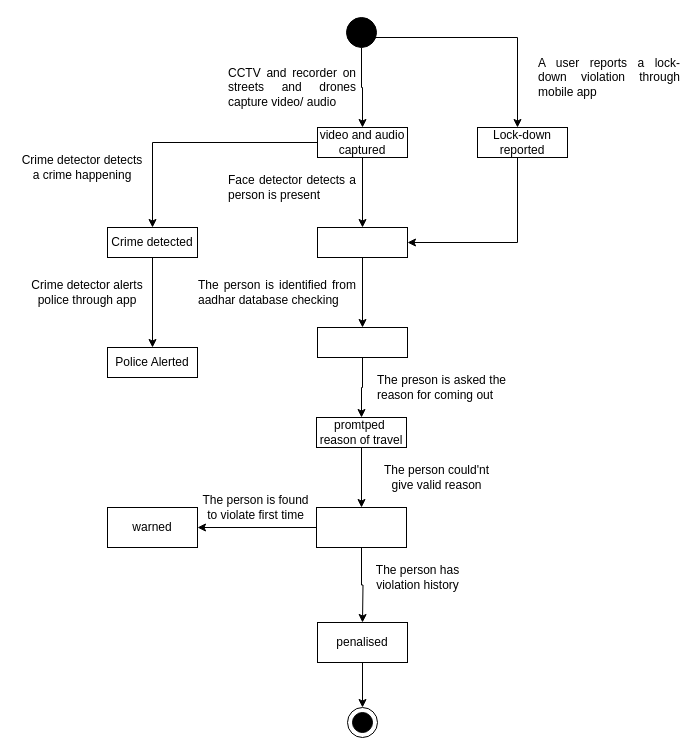
Image size: 698x755. Some labels were removed from this diagram. The box of each missing label's shape, as (x1, y1, x2, y2) in pixels:
Face detected: (316, 226, 408, 258)
Lock-down violation: (316, 506, 406, 548)
person identified: (316, 326, 408, 358)
